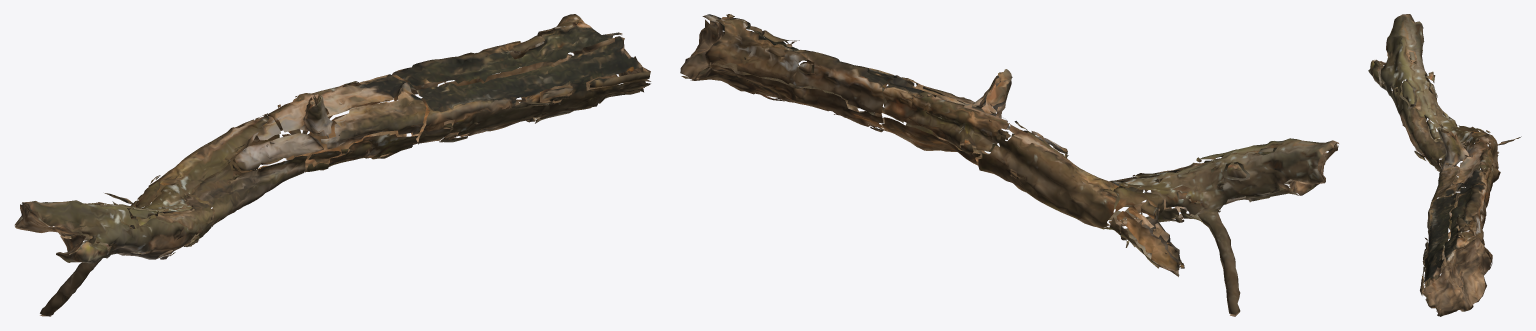
The model's file is dead-tree-trunk-02.glb.
The picture shows the model from 3 angles, left to right: view 1: azimuth 30°, elevation 25°; view 2: azimuth 150°, elevation 25°; view 3: azimuth 270°, elevation 25°; orthographic projection. The views are drawn at different scales.
Visible parts, largest first — view 1: dead_tree_trunk_02; view 2: dead_tree_trunk_02; view 3: dead_tree_trunk_02.
Part boxes in pixels (x1,y1,x2,y2): dead_tree_trunk_02: [14, 14, 650, 316]; dead_tree_trunk_02: [680, 14, 1338, 316]; dead_tree_trunk_02: [1368, 14, 1521, 316].
Bounding box in the file's own units: 4.04 × 1.05 × 1.03.
Materials: 1 (1 with a texture image).
